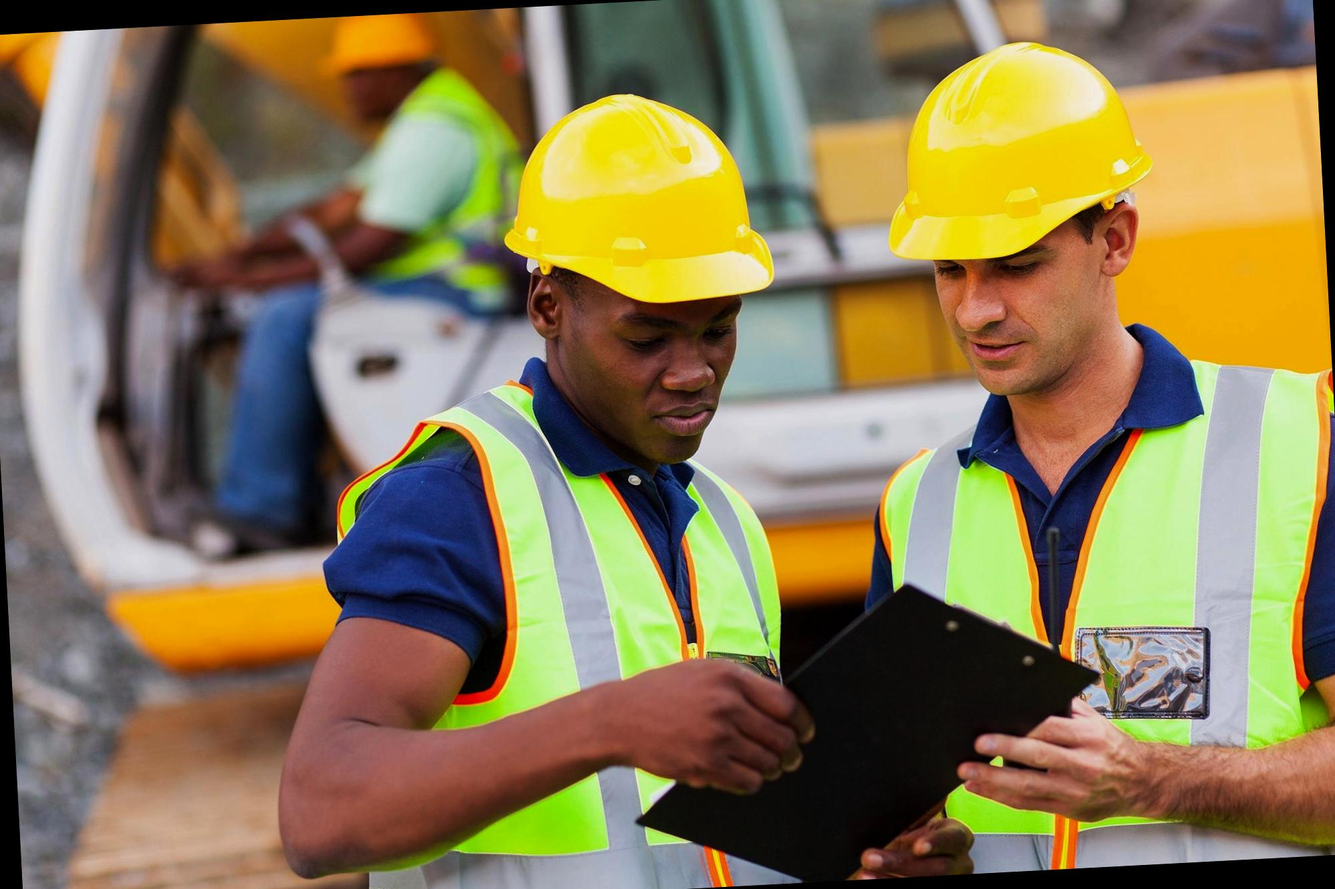helmet: (472, 85, 794, 338), (856, 38, 1179, 280)
person: (794, 17, 1335, 880), (280, 66, 838, 889)
